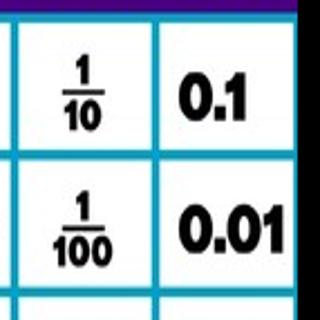.: (212, 103, 228, 127), (213, 235, 226, 257)
0: (174, 65, 214, 124), (176, 199, 214, 259), (225, 199, 262, 257), (76, 97, 105, 135), (90, 235, 115, 270), (67, 234, 91, 270)
1: (224, 65, 256, 128), (262, 195, 286, 259), (72, 49, 96, 87), (61, 97, 80, 133), (74, 187, 93, 223), (49, 235, 68, 269)
